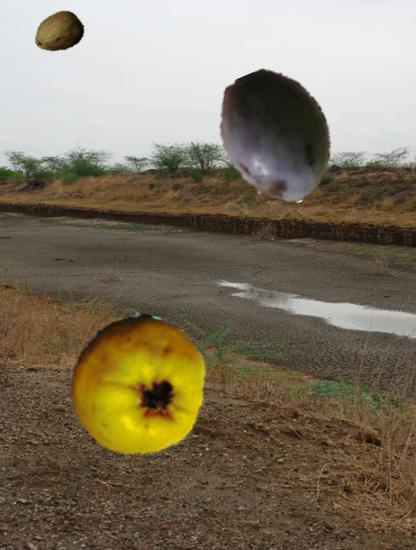Papaya: (33, 6, 85, 58)
Plum: (207, 68, 346, 207)
Quince: (65, 314, 210, 459)
